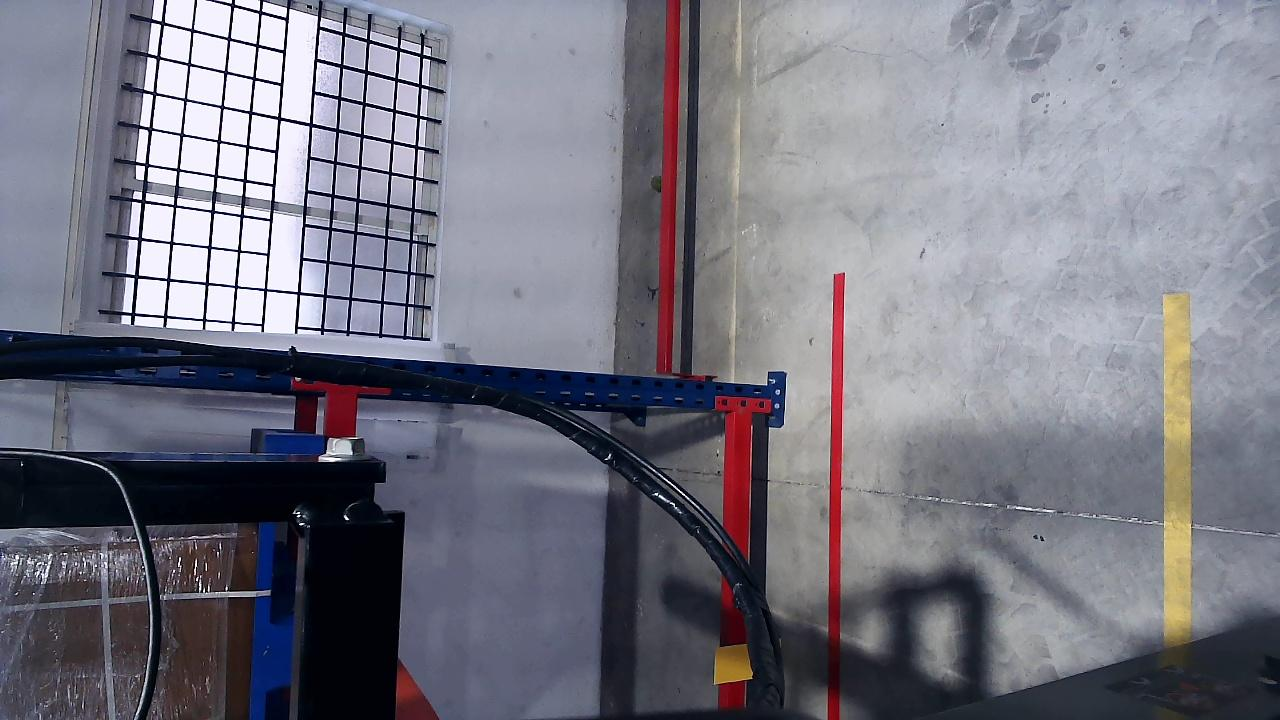h_rack: (721, 410, 756, 708)
orange_strip: (714, 644, 755, 694)
red_line: (826, 274, 844, 720)
yellow_line: (1162, 293, 1193, 642)
